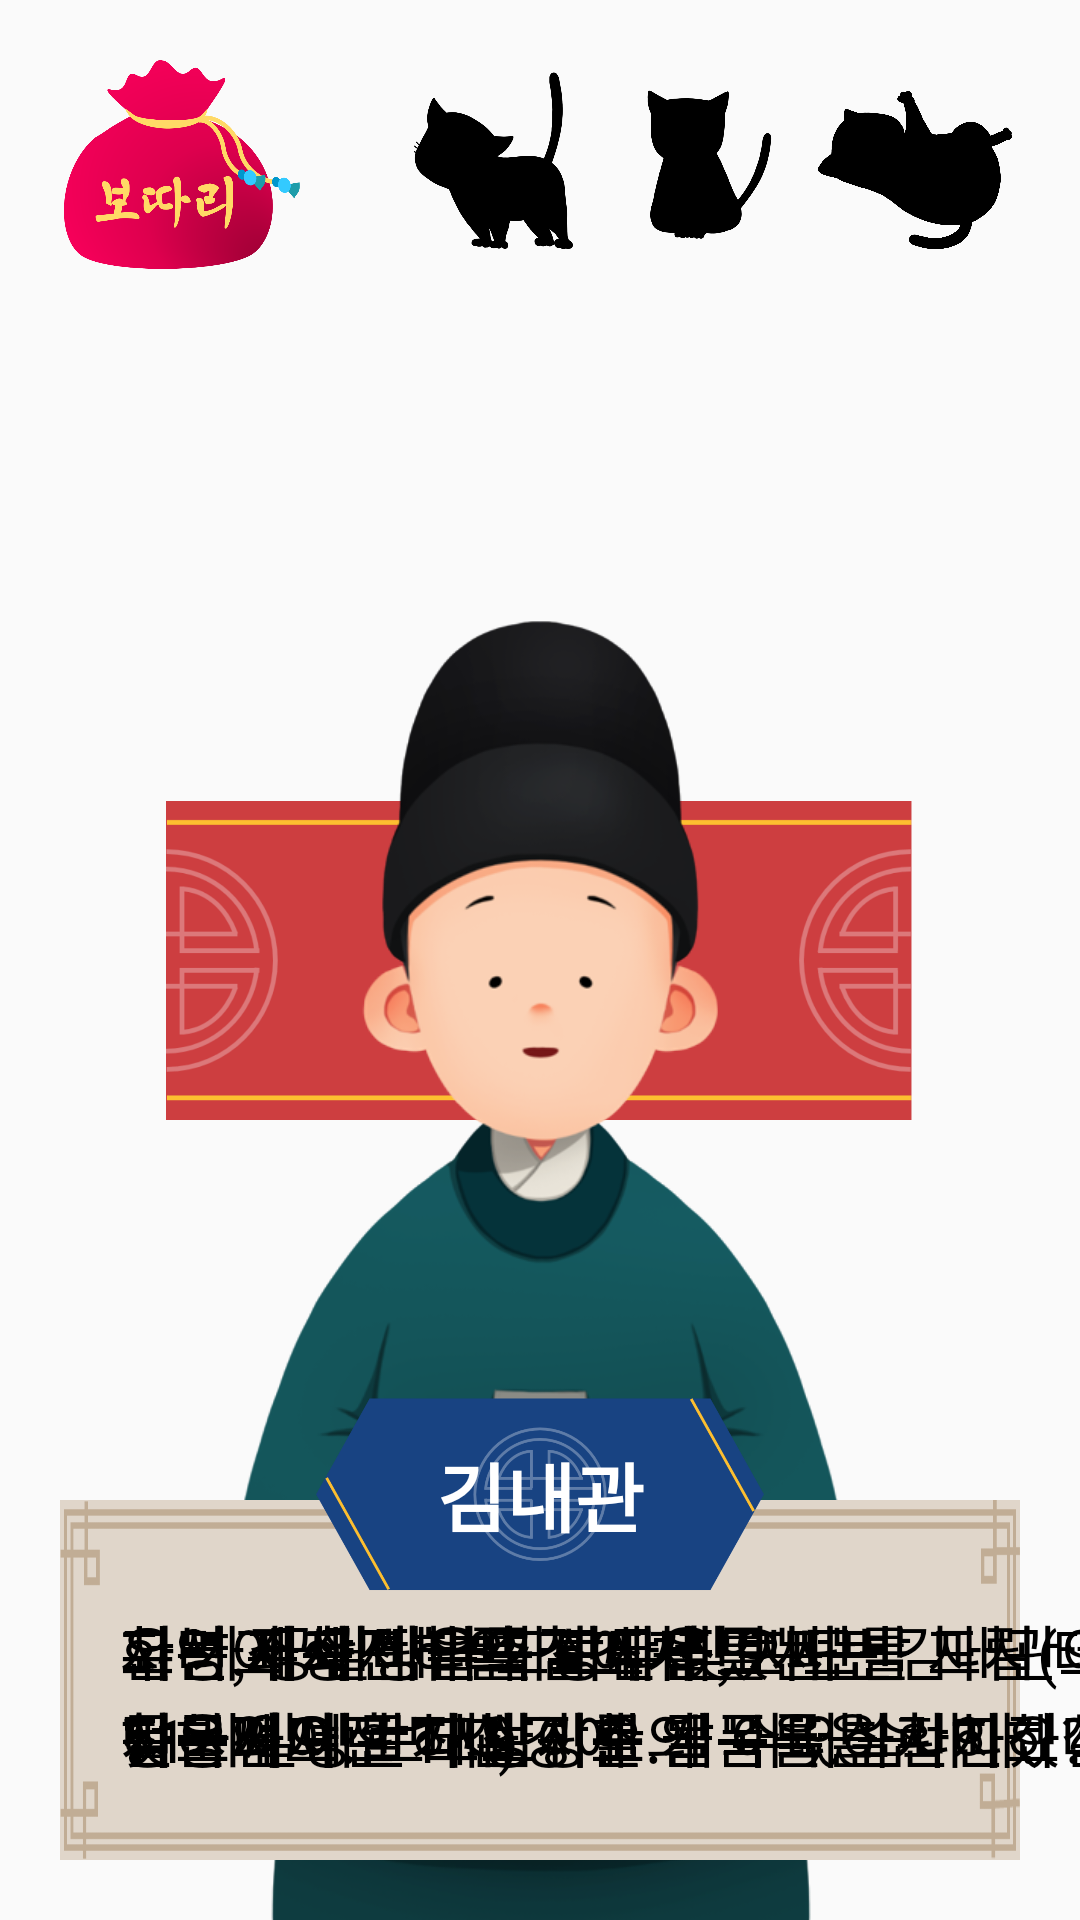

Screen size 1080 x 1920. Icon name, then its center in pixels as (x,y):
cat: (493,160), (709,164), (915,170)
pack: (182,164)
